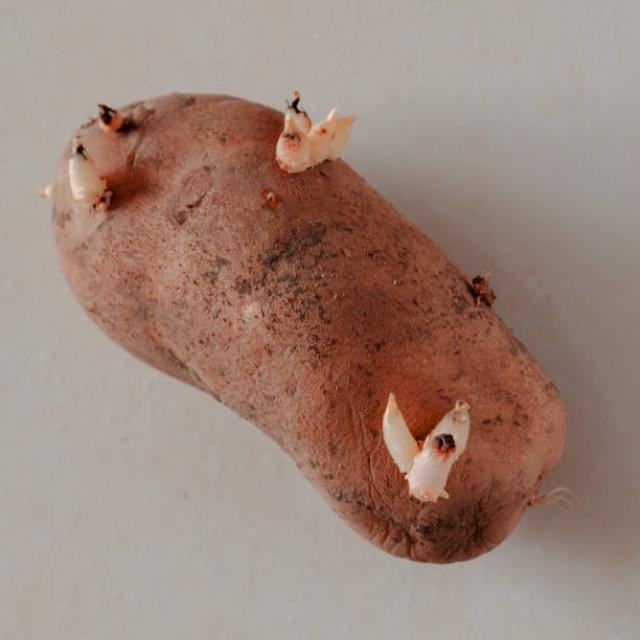Sprouted potato: (41, 82, 584, 576)
